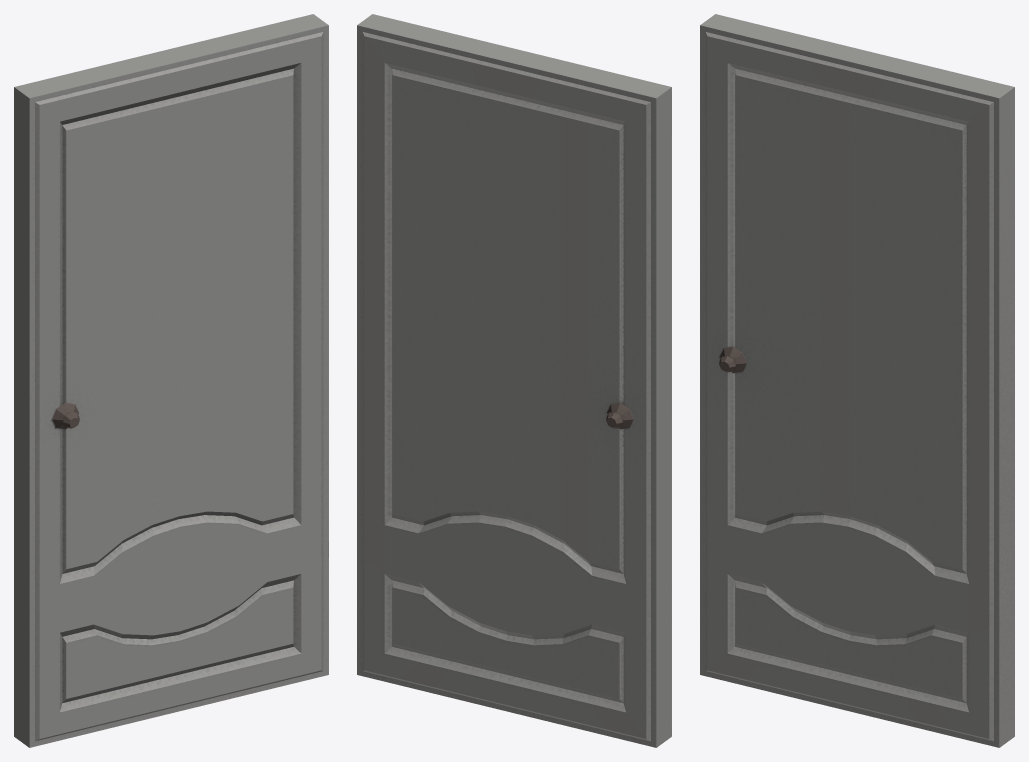
The model's file is door_9_engine.obj.
The picture shows the model from 3 angles, left to right: view 1: azimuth 30°, elevation 25°; view 2: azimuth 150°, elevation 25°; view 3: azimuth 330°, elevation 25°; orthographic projection.
Parts seen in each view (by area): view 1: Door_9; view 2: Door_9; view 3: Door_9.
Boxes of the visible parts, box(x1,y1,x2,y2) form: Door_9: box(14, 14, 328, 747); Door_9: box(357, 14, 671, 747); Door_9: box(700, 14, 1014, 747).
Size of the model in its own units: 14.57 by 30.22 by 3.03.
1 material, 1 textured.
